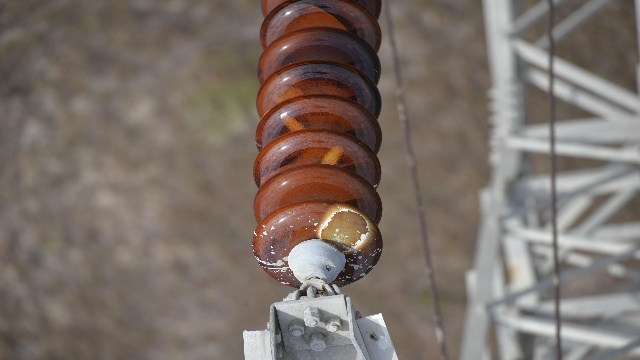insulator_unspecified: (252, 0, 388, 287)
pollution_flashover_local: (318, 209, 371, 258), (281, 112, 304, 134), (319, 146, 341, 168)
